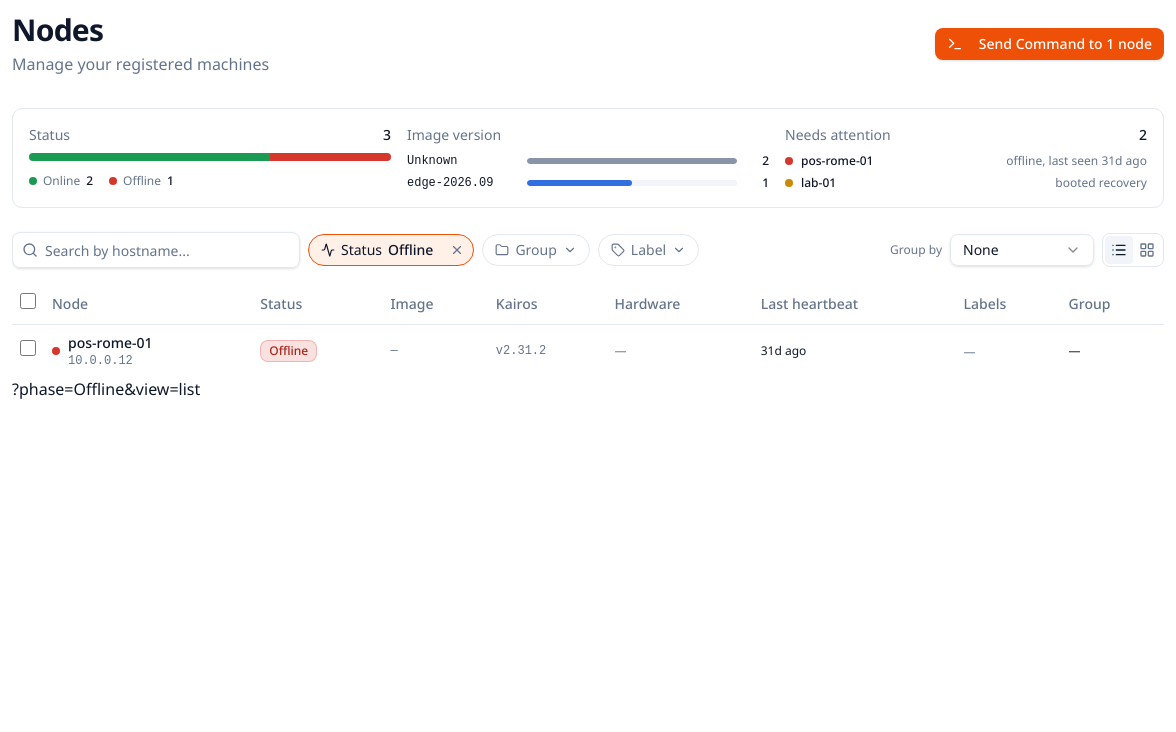
it: Nodes list › removing a filter chip removes it from the URL and keeps other keys
This screenshot has width=1176, height=732.
Expected: the text "pos-rome-01" is shown, [68, 332, 152, 352]
Expected: the text "pos-milan-01" is not shown
Step 1. Click the button named "Remove Status filter" → (457, 250), box [445, 238, 469, 262]
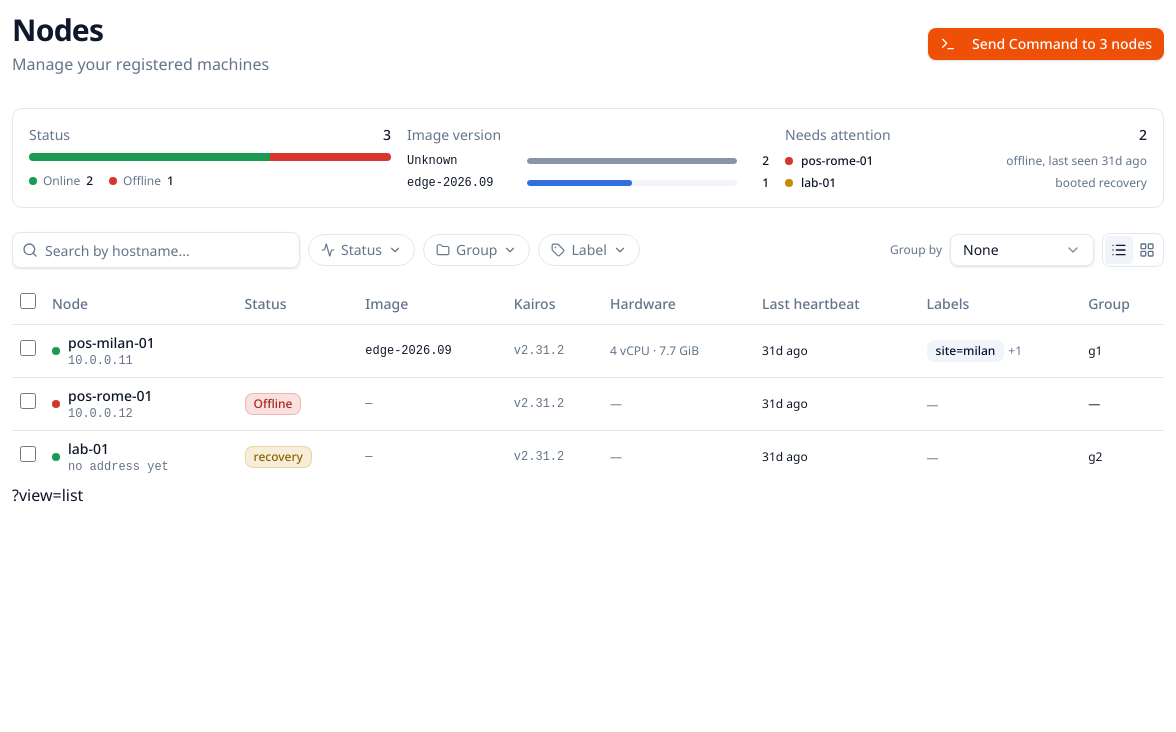
Expected: the text with test id "search" shows "view=list", [12, 484, 83, 506]
Now the text "pos-milan-01" is shown, box [68, 332, 155, 352]
Now the text with test id "search" no longer shows "phase"
